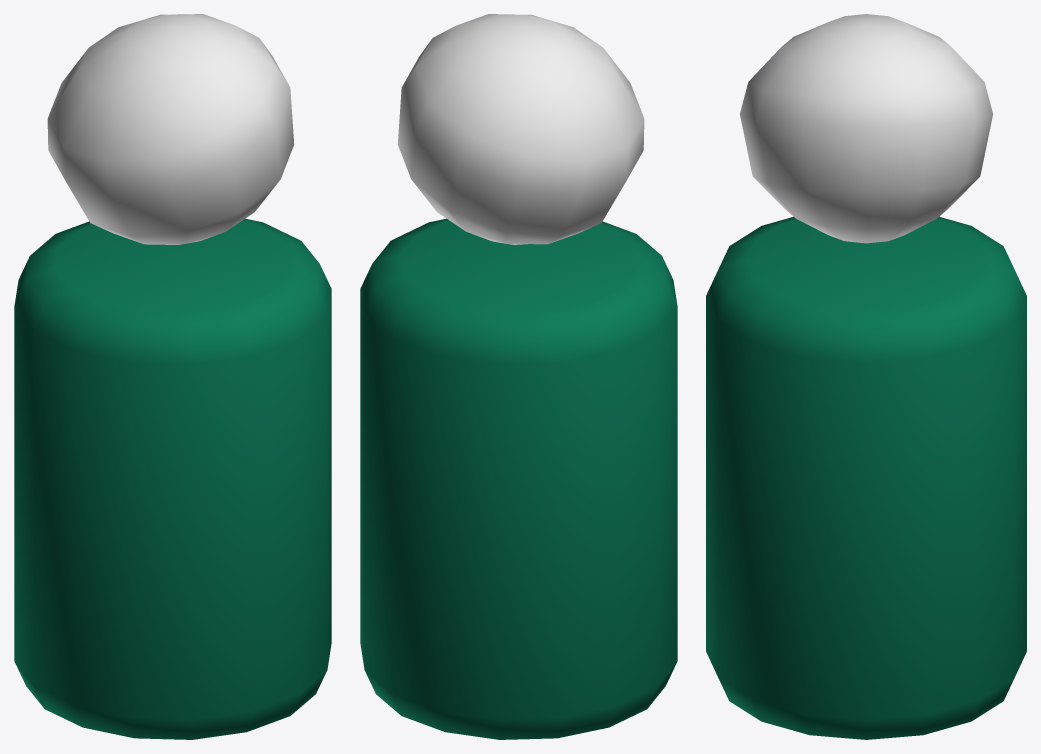
Rendered from ibanda.fbx.
The picture shows the model from 3 angles, left to right: view 1: azimuth 30°, elevation 25°; view 2: azimuth 150°, elevation 25°; view 3: azimuth 270°, elevation 25°; orthographic projection.
Visible parts, largest first — view 1: green; view 2: green; view 3: green.
Part boxes in pixels (x1,y1,x2,y2): green: (14,14,331,739); green: (360,14,677,739); green: (706,14,1026,739).
Bounding box in the file's own units: 172 × 392 × 172.
